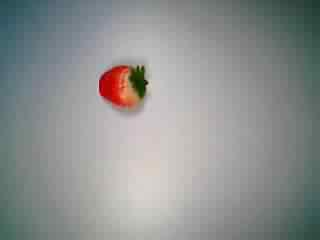strawberry: (90, 57, 158, 121)
